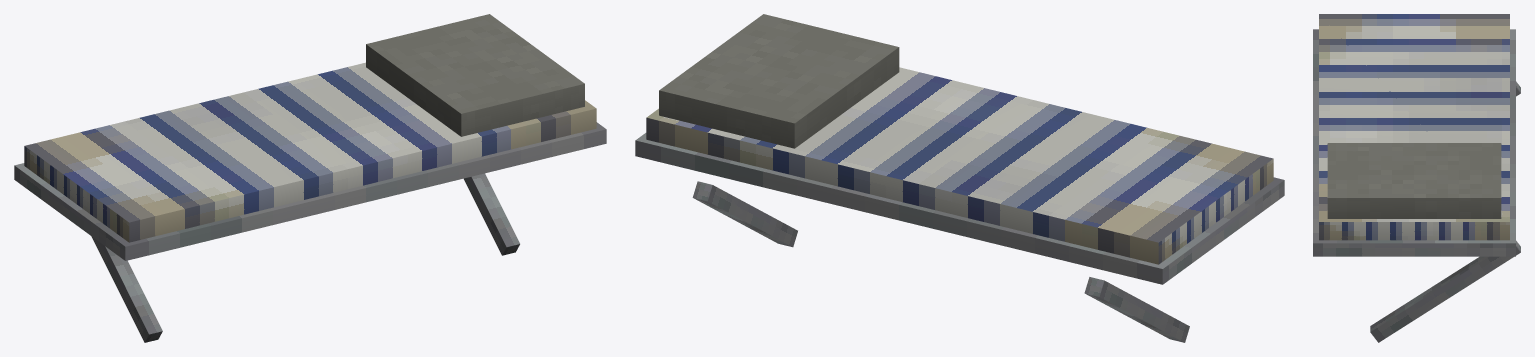
The model's file is cell_bunk.glb.
3 views of the same model, side by side, from view 1: azimuth 30°, elevation 25°; view 2: azimuth 150°, elevation 25°; view 3: azimuth 270°, elevation 25° (orthographic). The views are drawn at different scales.
Parts seen in each view (by area): view 1: cell_bunk; view 2: cell_bunk; view 3: cell_bunk.
Boxes of the visible parts, box(x1,y1,x2,y2) form: cell_bunk: box(14, 14, 606, 342); cell_bunk: box(635, 14, 1284, 342); cell_bunk: box(1313, 14, 1520, 342).
Size of the model in its own units: 1.75 by 0.6224 by 0.7173.
Materials: 1 (1 with a texture image).
